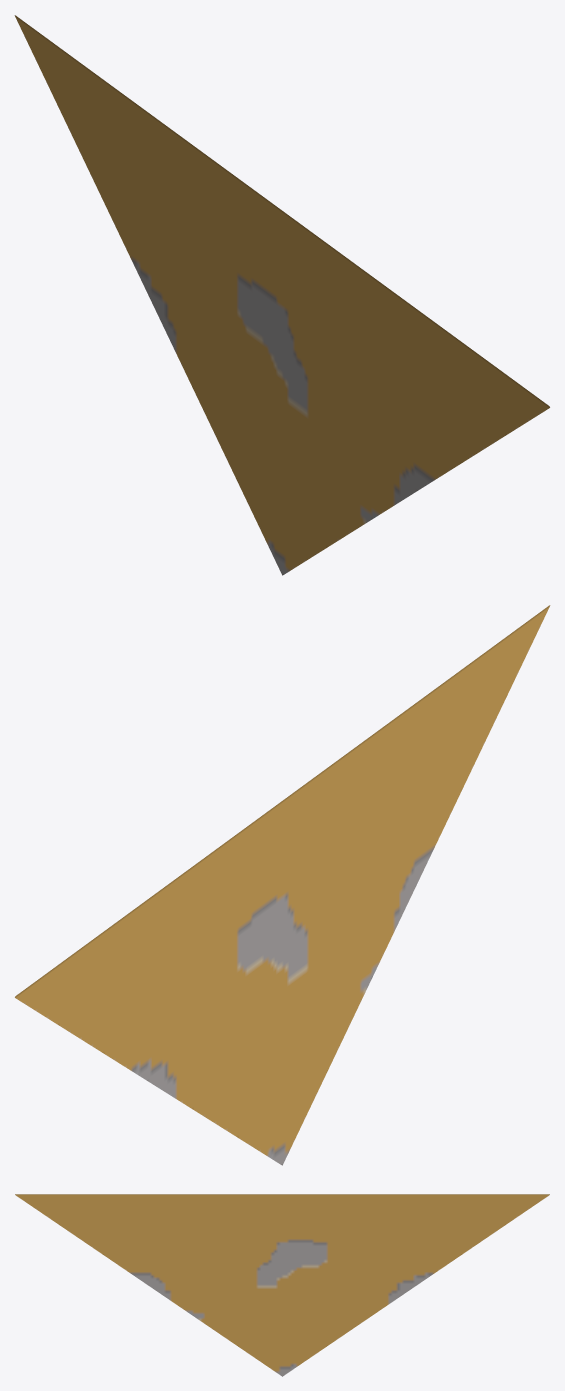
File: TrianguloNaraja1.fbx
3 views of the same model, one above another, from view 1: azimuth 30°, elevation 25°; view 2: azimuth 150°, elevation 25°; view 3: azimuth 270°, elevation 25° (orthographic). The views are drawn at different scales.
Parts seen in each view (by area): view 1: plane; view 2: plane; view 3: plane.
Part boxes in pixels (bbox=[...]): plane: bbox=[14, 15, 549, 575]; plane: bbox=[15, 605, 550, 1165]; plane: bbox=[15, 1194, 549, 1376].
Bounding box in the file's own units: 1.84e-14 × 113 × 300.
1 material, 1 textured.
